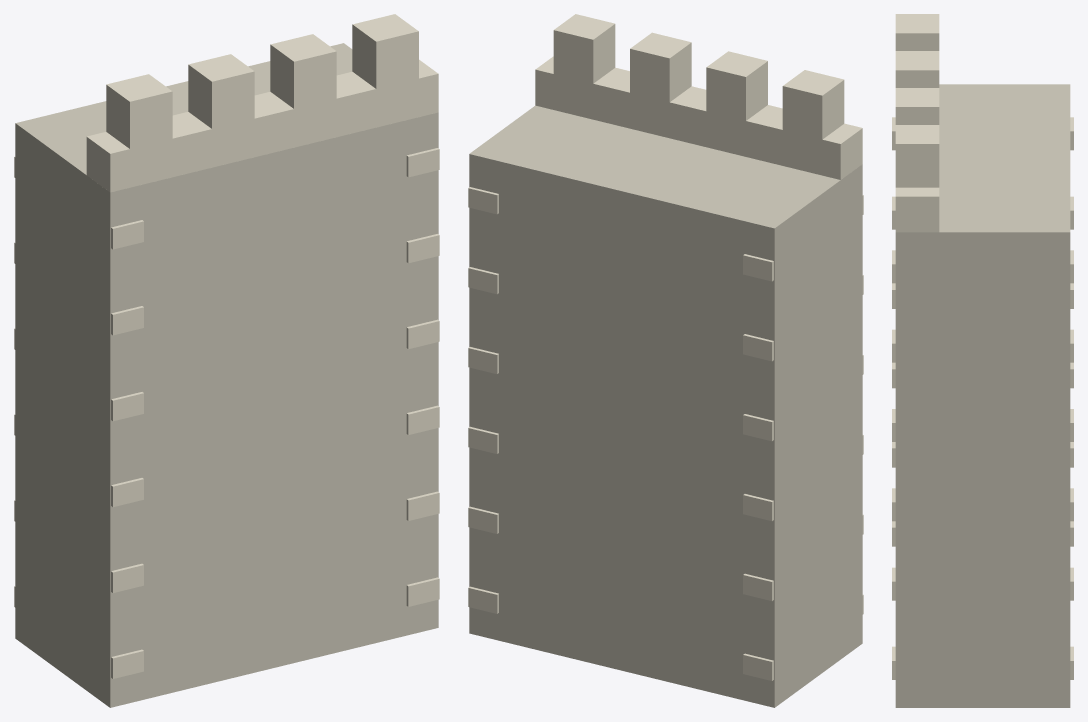
The model's file is curtain-high-4-m.glb.
3 renders of one model, left to right at view 1: azimuth 30°, elevation 25°; view 2: azimuth 150°, elevation 25°; view 3: azimuth 270°, elevation 25°, orthographic. The views are drawn at different scales.
Parts seen in each view (by area): view 1: curtain-high-4m; view 2: curtain-high-4m; view 3: curtain-high-4m.
Part boxes in pixels (x1=…): curtain-high-4m: x1=14, y1=14, x2=439, y2=707; curtain-high-4m: x1=468, y1=14, x2=863, y2=707; curtain-high-4m: x1=892, y1=14, x2=1073, y2=707.
Bounding box in the file's own units: 4 × 7 × 2.08.
